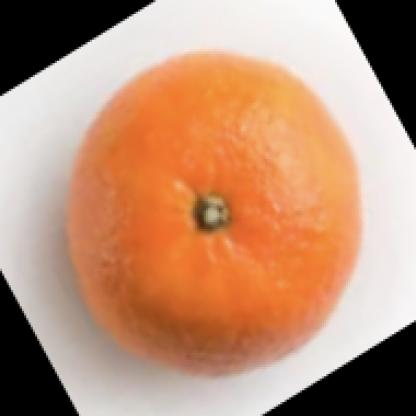fresh: (68, 53, 364, 379)
